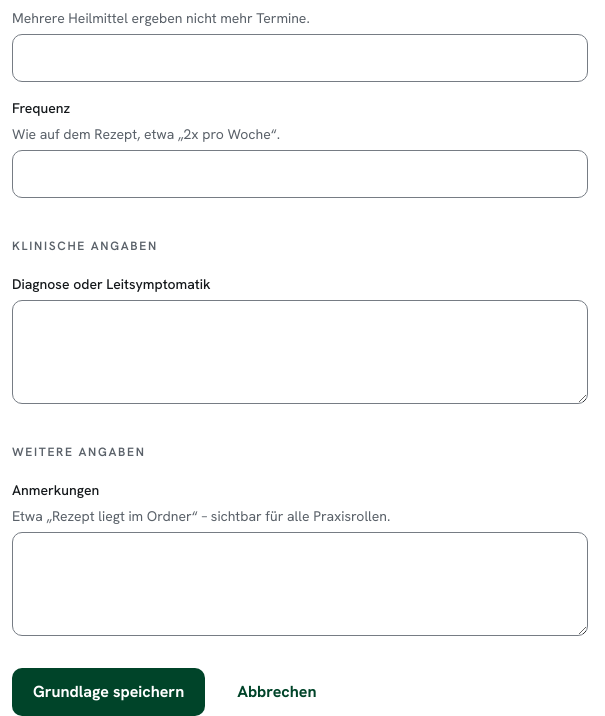
NewTreatmentBasisPage › haelt fehlende Pflichtangaben im Formular auf
(page scrolled)
Click the button "Grundlage speichern" at (109, 692), box [12,668,205,715]
(page scrolled)
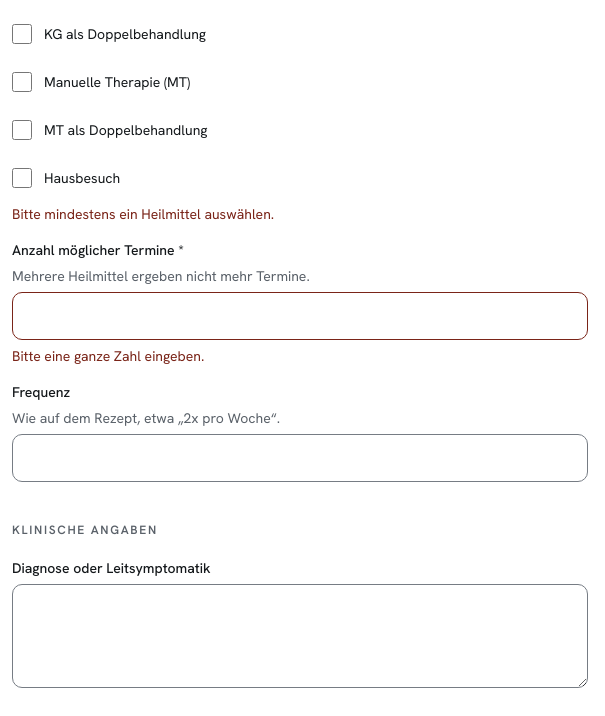
Expected: the text "Bitte mindestens ein Heilmittel auswählen." is shown 2 times
Expected: the text "Bitte eine ganze Zahl eingeben." is shown, [12,347,204,365]
